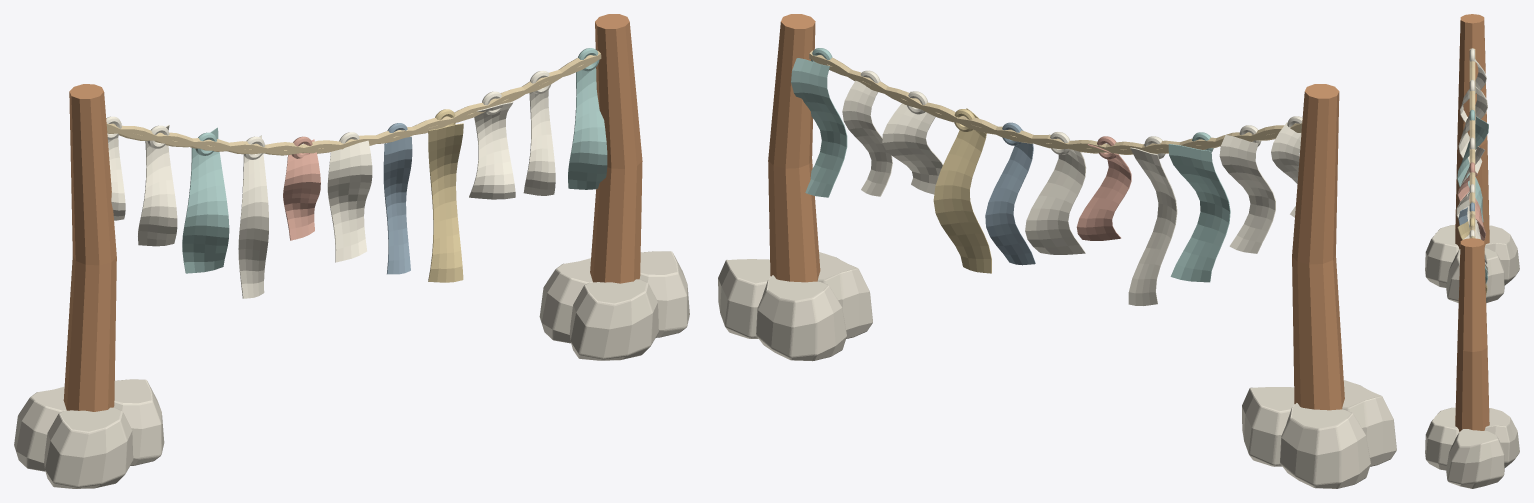
The model's file is Test_CheonRef_WishRibbons.fbx.
3 renders of one model, left to right at view 1: azimuth 30°, elevation 25°; view 2: azimuth 150°, elevation 25°; view 3: azimuth 270°, elevation 25°, orthographic. The views are drawn at different scales.
Visible parts, largest first — view 1: WishRopeWoodPost, WishRopeWoodPost.001, WishPostFootStone.005, WishPostFootStone.002, WishSilk_2, WishSilk_7, WishSilk_5, WishSilk_3, WishSilk_10, WishSilk_8, WishSilk_6, WishSilk_1 (+9 smaller); view 2: WishRopeWoodPost, WishRopeWoodPost.001, WishPostFootStone.004, WishPostFootStone.001, WishSilk_7, WishSilk_2, WishSilk_5, WishSilk_10, WishSilk_3, WishSilk_1, WishSilk_6, WishPostFootStone.003 (+9 smaller); view 3: WishRopeWoodPost.001, WishRopeWoodPost, WishPostFootStone.003, WishPostFootStone.002, WishPostFootStone.005, WishPostFootStone, WishPostFootStone.001, WishPostFootStone.004, WishSilk_2, WishSilk_1, MainSwayingRope_Twist1, WishSilk_4 (+6 smaller).
Part boxes in pixels (x1,y1,x2,y2): WishRopeWoodPost: (63, 84, 116, 411); WishRopeWoodPost.001: (590, 14, 642, 283); WishPostFootStone.005: (569, 279, 658, 360); WishPostFootStone.002: (44, 407, 133, 488); WishSilk_2: (182, 127, 229, 273); WishSilk_7: (428, 123, 463, 282); WishSilk_5: (327, 140, 372, 262); WishSilk_3: (238, 135, 268, 298); WishSilk_10: (568, 67, 607, 189); WishSilk_8: (469, 102, 515, 199); WishSilk_6: (383, 136, 412, 274); WishSilk_1: (138, 125, 177, 246); WishRopeWoodPost: (1292, 84, 1344, 410); WishRopeWoodPost.001: (768, 14, 820, 282); WishPostFootStone.004: (756, 275, 846, 361); WishPostFootStone.001: (1280, 403, 1370, 488); WishSilk_7: (933, 108, 991, 273); WishSilk_2: (1168, 144, 1230, 282); WishSilk_5: (1025, 134, 1086, 254); WishSilk_10: (791, 58, 847, 197); WishSilk_3: (1128, 147, 1177, 305); WishSilk_1: (1219, 135, 1275, 253); WishSilk_6: (985, 129, 1035, 265); WishPostFootStone.003: (718, 259, 770, 338); WishRopeWoodPost.001: (1455, 238, 1489, 431); WishRopeWoodPost: (1455, 14, 1489, 249); WishPostFootStone.003: (1446, 429, 1504, 488); WishPostFootStone.002: (1425, 225, 1459, 287); WishPostFootStone.005: (1425, 407, 1459, 470); WishPostFootStone: (1446, 248, 1504, 302); WishPostFootStone.001: (1484, 225, 1519, 285); WishPostFootStone.004: (1485, 408, 1519, 467); WishSilk_2: (1457, 116, 1488, 222); WishSilk_1: (1458, 86, 1487, 173); MainSwayingRope_Twist1: (1469, 61, 1475, 238); WishSilk_4: (1457, 171, 1485, 240).
Bounding box in the file's own units: 650 × 352 × 114.
